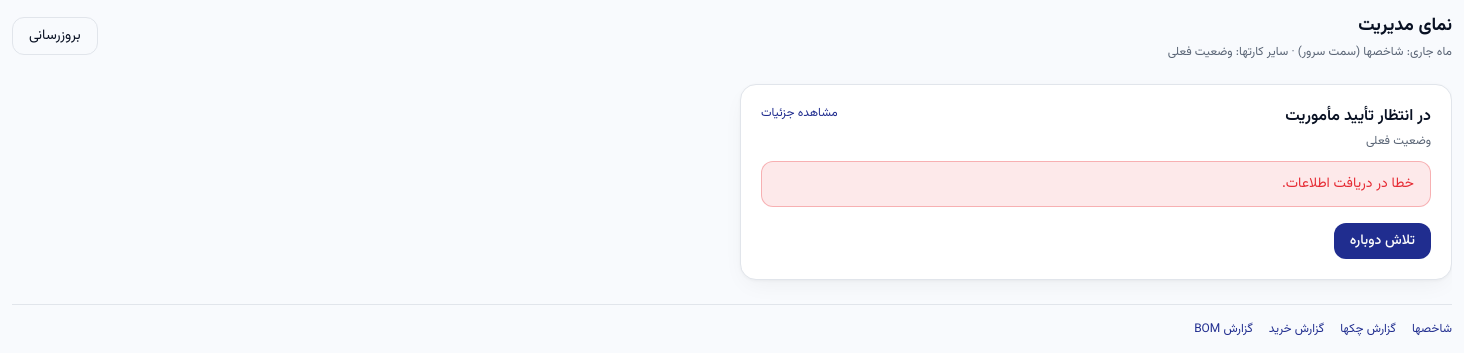
Test: error semantics › maps a non-HTTP failure to ERROR and retries to ready
Check: the element with test id "mgt-que-02-error" is shown, box x1=761 y1=161 x2=1431 y2=259
Click the button "تلاش دوباره" at x=1382, y=241, box x1=1334 y1=223 x2=1431 y2=259
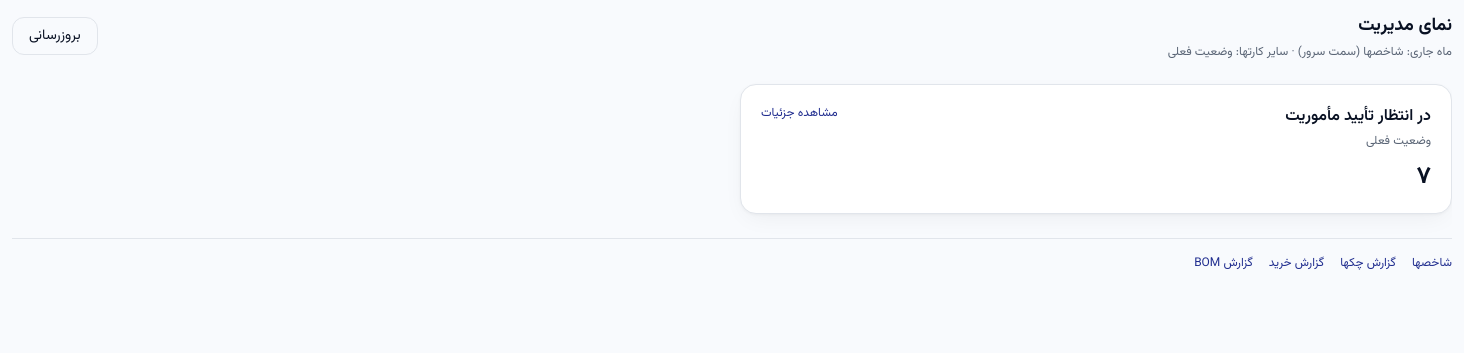
Check: the text with test id "mgt-que-02-count" reads "۷", box x1=1416 y1=158 x2=1431 y2=196
